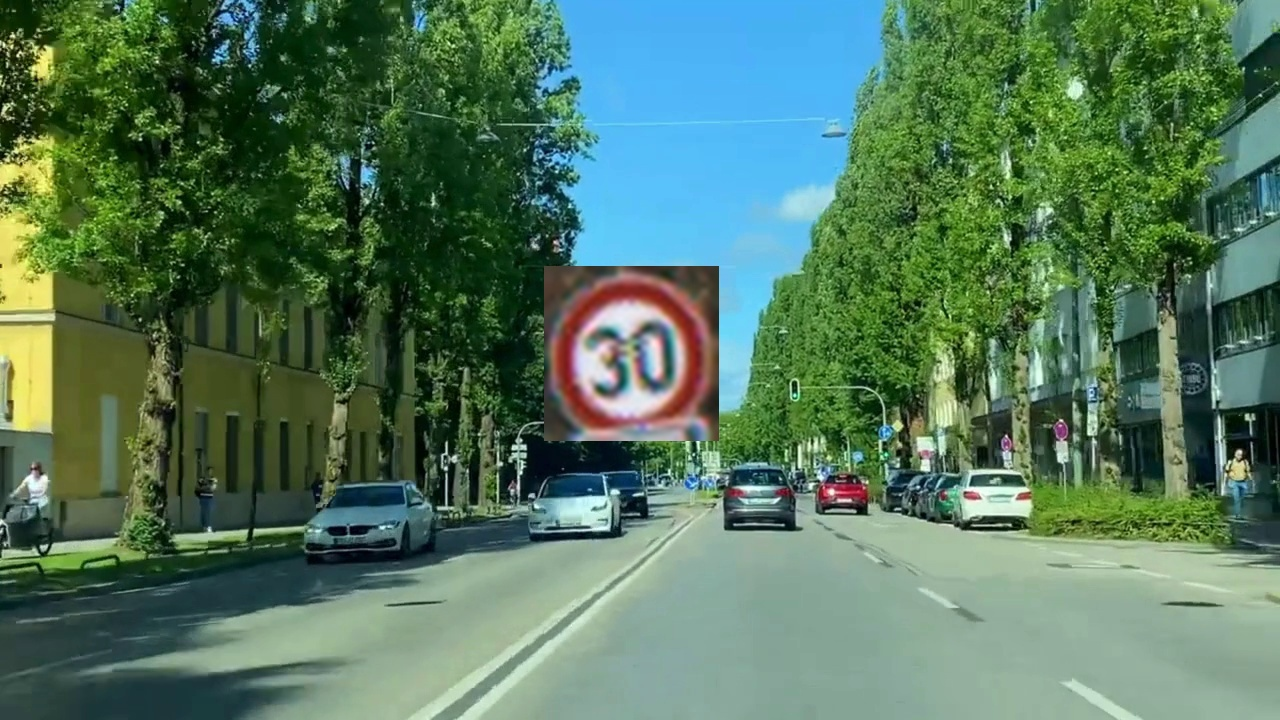Speed 30: (544, 266, 719, 441)
